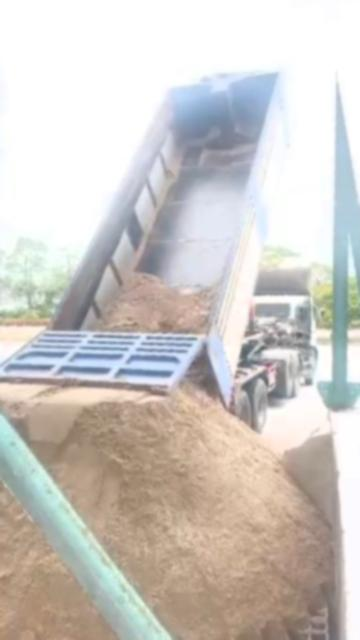sand: (33, 384, 333, 640), (0, 470, 128, 640), (0, 383, 165, 446), (97, 273, 212, 333), (284, 426, 335, 524)
